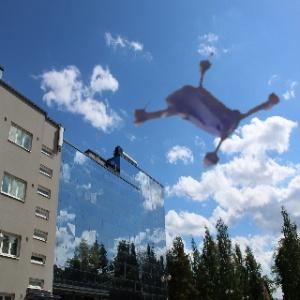drone: (106, 42, 268, 204)
